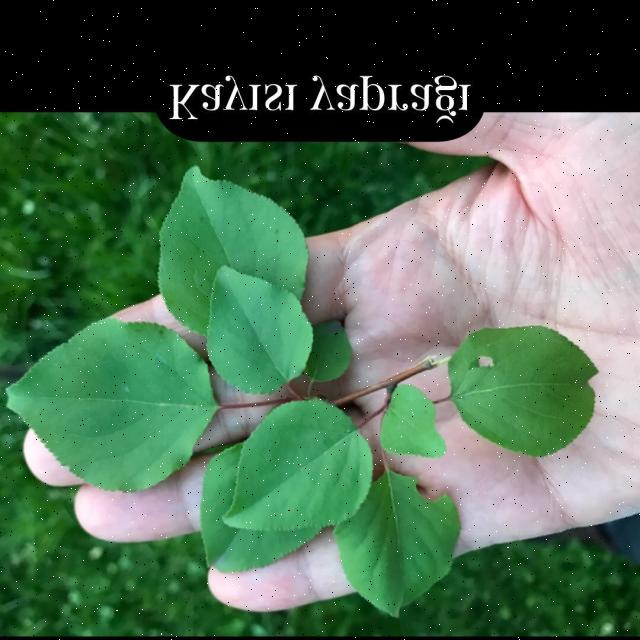kayisi yapragi: (9, 314, 217, 481), (157, 167, 314, 340), (220, 399, 378, 551), (448, 320, 600, 462), (329, 473, 471, 622), (181, 459, 323, 592), (204, 267, 312, 398), (369, 382, 451, 469), (306, 312, 358, 389)
